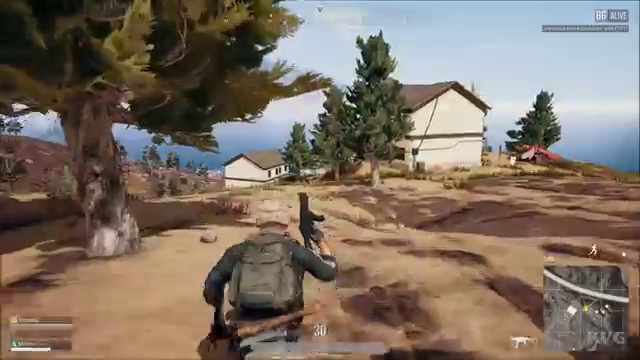Player: (206, 188, 338, 325)
